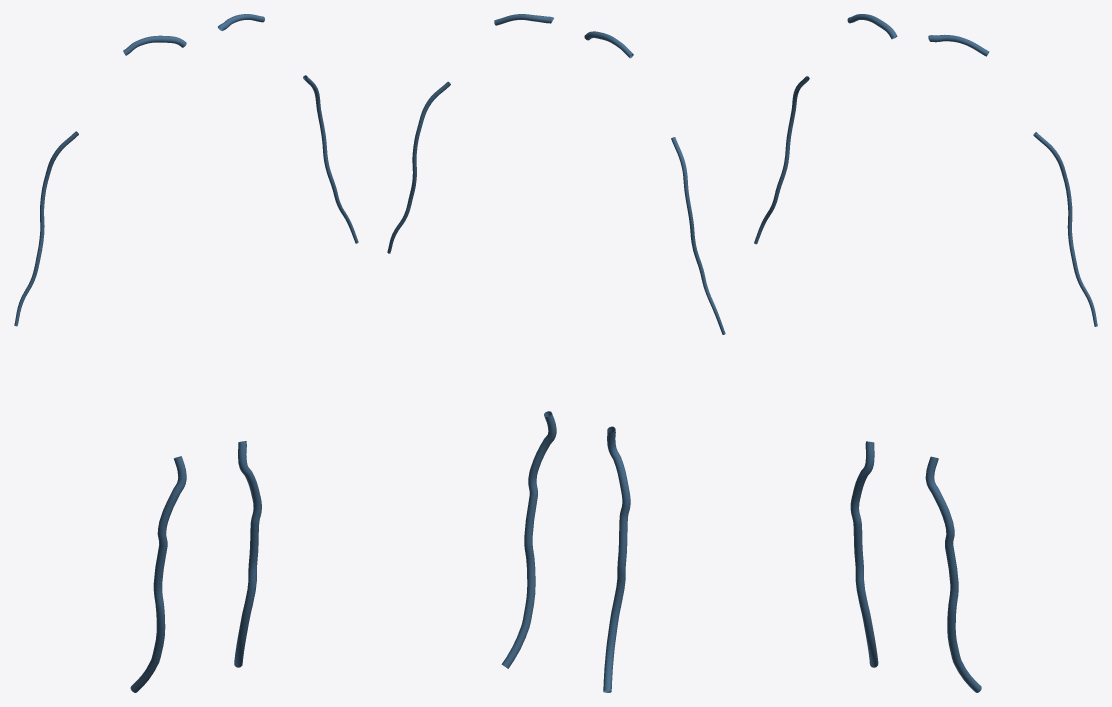
File: venous-mobile.glb
3 renders of one model, left to right at view 1: azimuth 30°, elevation 25°; view 2: azimuth 150°, elevation 25°; view 3: azimuth 330°, elevation 25°, orthographic.
Visible parts, largest first — view 1: za.femoral-vein-r, za.femoral-vein-l, za.brachial-veins-r, za.brachial-veins-l; view 2: za.femoral-vein-r, za.femoral-vein-l, za.brachial-veins-r, za.brachial-veins-l; view 3: za.femoral-vein-l, za.femoral-vein-r, za.brachial-veins-l, za.brachial-veins-r.
Boxes of the visible parts, x1,y1,x2,y2 form: za.femoral-vein-r: [130, 456, 186, 692]; za.femoral-vein-l: [234, 441, 261, 667]; za.brachial-veins-r: [14, 131, 78, 326]; za.brachial-veins-l: [303, 75, 358, 243]; za.femoral-vein-r: [603, 426, 630, 692]; za.femoral-vein-l: [501, 411, 556, 668]; za.brachial-veins-r: [671, 137, 725, 334]; za.brachial-veins-l: [387, 81, 450, 253]; za.femoral-vein-l: [925, 456, 981, 692]; za.femoral-vein-r: [850, 441, 878, 667]; za.brachial-veins-l: [1033, 132, 1097, 326]; za.brachial-veins-r: [754, 76, 809, 244].
Size of the model in its own units: 0.4636 by 0.8523 by 0.078.
